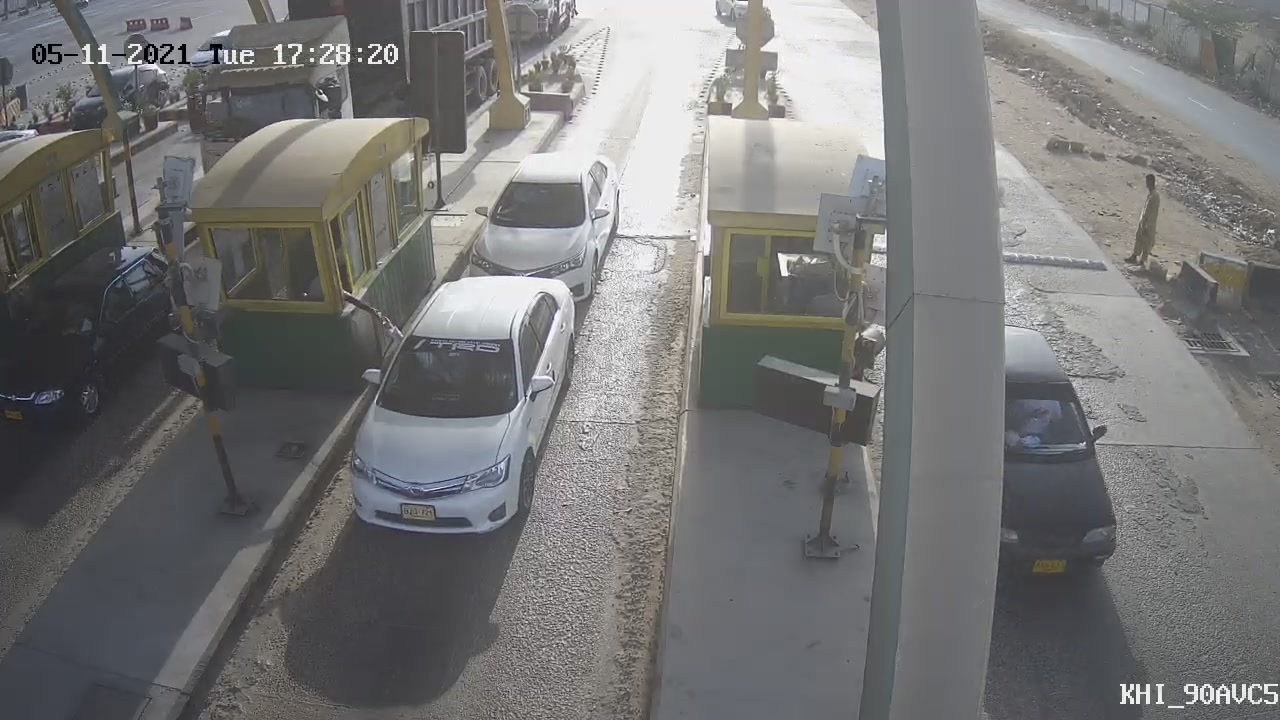F1: (324, 259, 594, 559), (443, 136, 636, 318)
